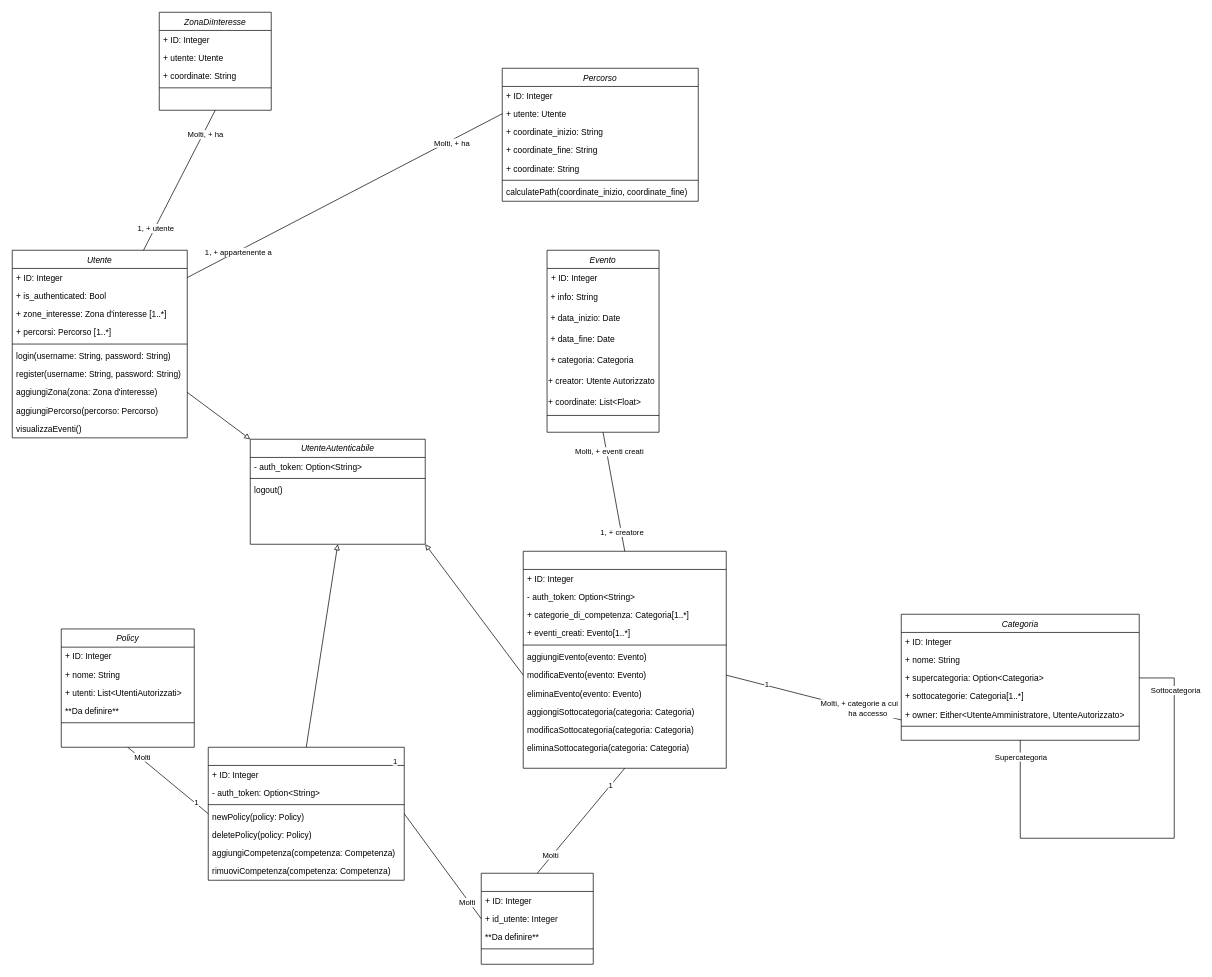
The diagram is 1212 pixels wide and 977 high, and some of its shapes have lost their labels. Here are the shapes that lost their labels. From the top down, the box of each, then its label:
(523, 551, 726, 768): UtenteAutorizzato
(208, 747, 404, 880): UtenteAmministratore
(481, 873, 593, 964): Competenza
